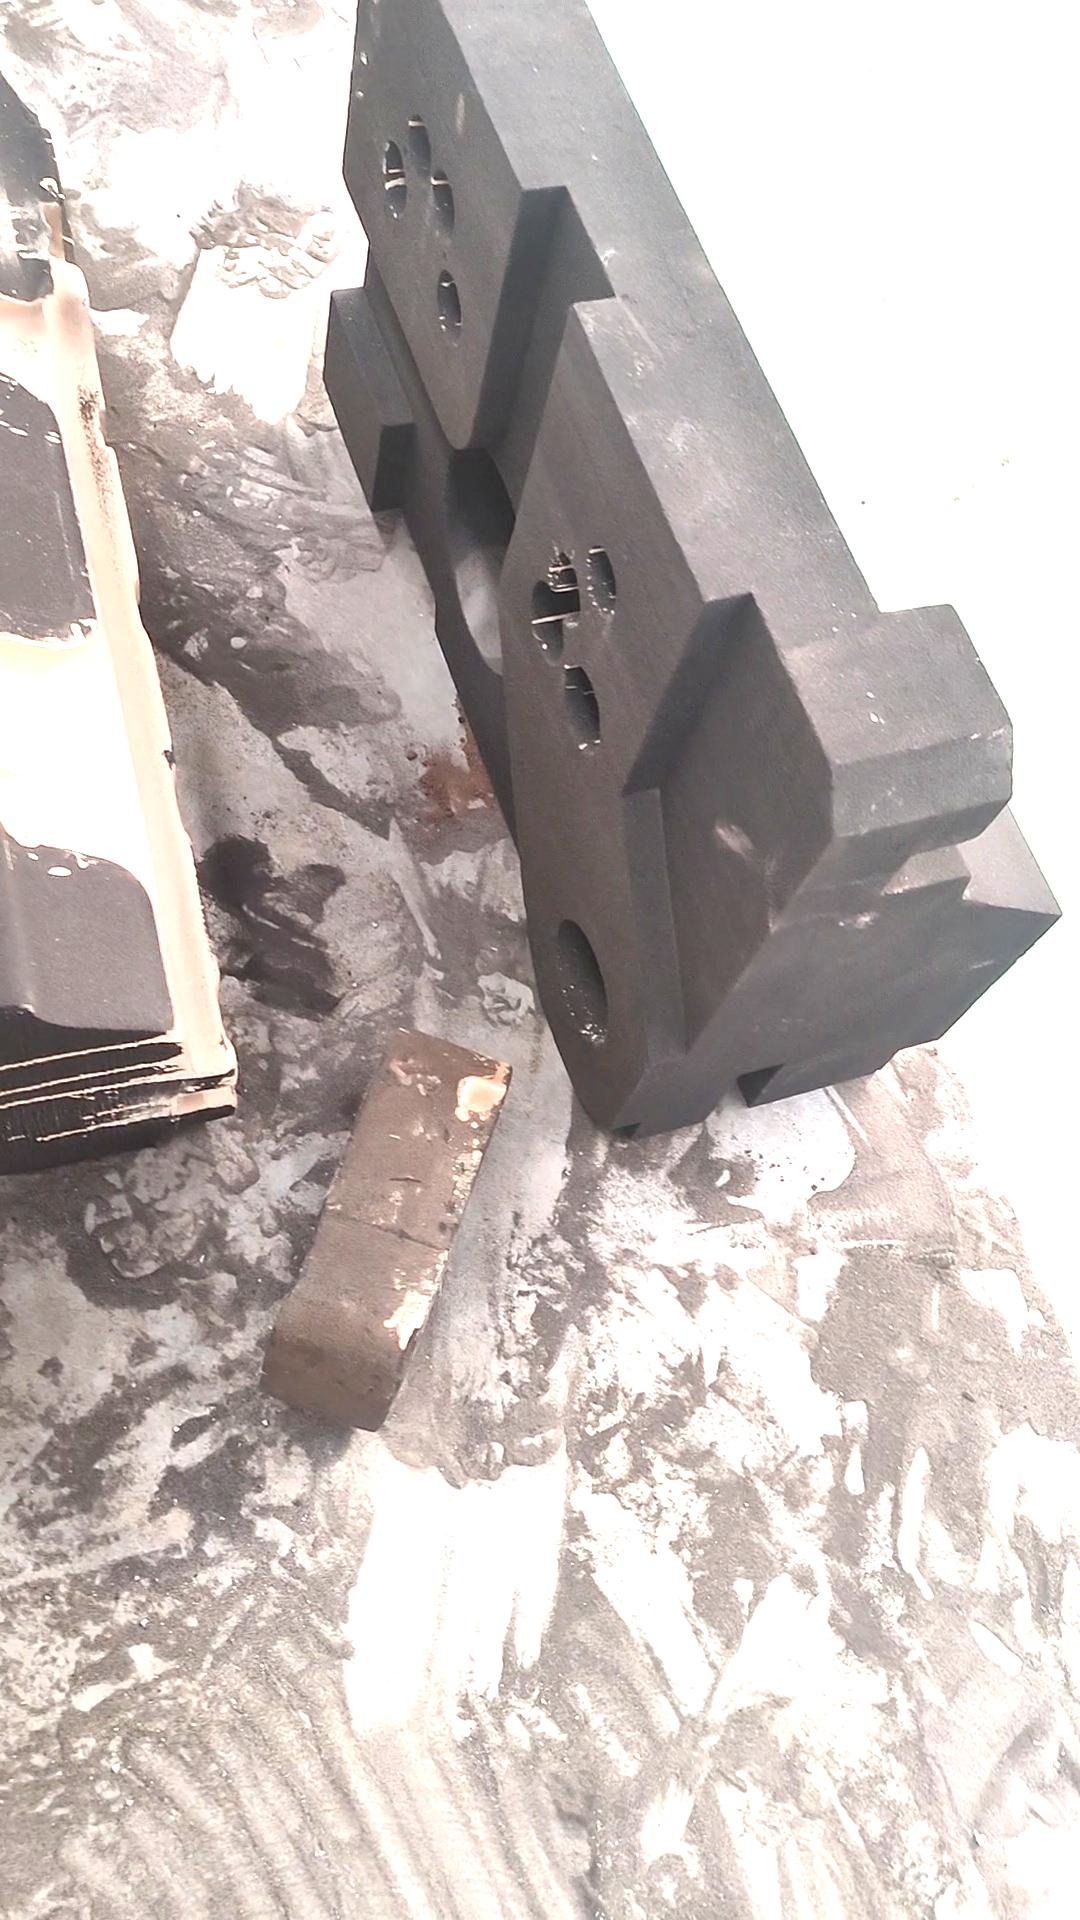pouring hole: (545, 918, 618, 1054)
